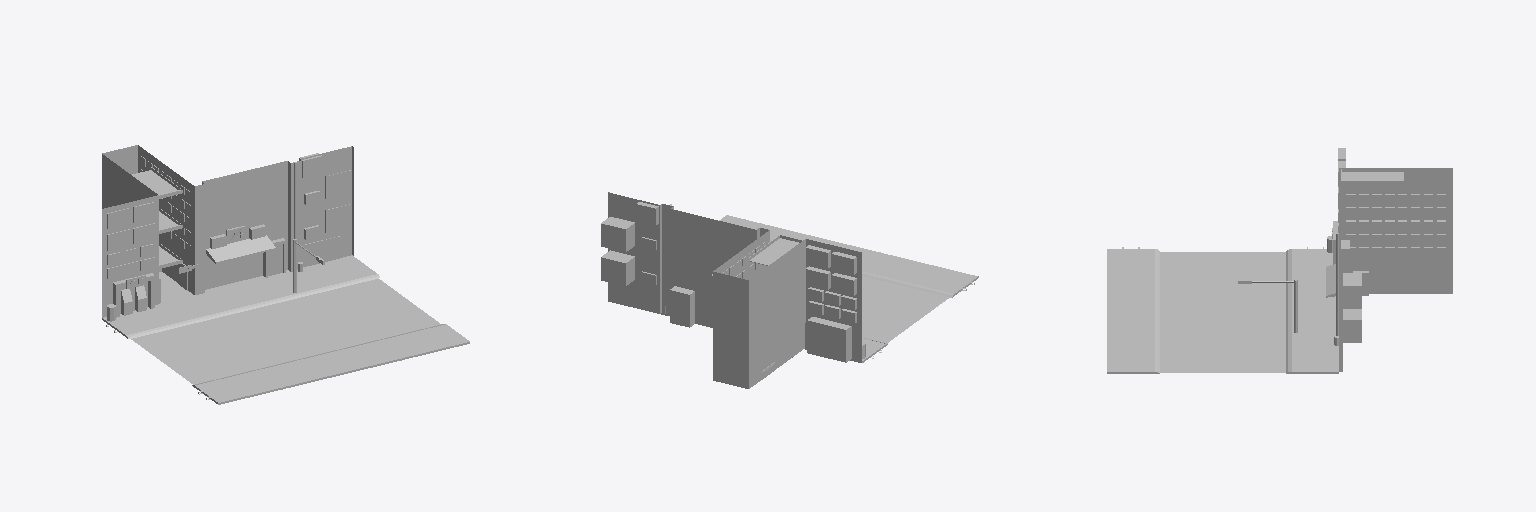
Rendered from blockmesh_cenario01.obj.
The picture shows the model from 3 angles: view 1: azimuth 30°, elevation 25°; view 2: azimuth 150°, elevation 25°; view 3: azimuth 270°, elevation 25°; orthographic projection.
Parts seen in each view (by area): view 1: Plane, Cube, Cube.030, Cube.002, Cube.029, Cube.028, Plane.001, Cube.011, Plane.007, Cube.001, Cube.023, Cube.025 (+6 smaller); view 2: Cube.029, Cube.030, Plane, Cube, Cube.002, Cube.028, Cube.023, Cube.011, Cube.007, Cube.010, Cube.016, Cube.019 (+1 smaller); view 3: Plane, Cube, Cube.029, Cube.026, Plane.001, Cube.001, Cube.023, Cube.025, Cube.002, Plane.007.
Boxes of the visible parts, x1,y1,x2,y2 form: Plane: [131, 279, 440, 384]; Cube: [102, 257, 469, 404]; Cube.030: [202, 161, 287, 289]; Cube.002: [102, 146, 353, 317]; Cube.029: [102, 145, 194, 294]; Cube.028: [301, 146, 351, 266]; Plane.001: [239, 305, 333, 356]; Cube.011: [107, 202, 155, 250]; Plane.007: [128, 167, 182, 268]; Cube.001: [126, 274, 444, 387]; Cube.023: [325, 170, 350, 232]; Cube.025: [106, 261, 460, 401]; Cube.029: [713, 230, 805, 388]; Cube.030: [670, 209, 756, 327]; Plane: [862, 276, 949, 342]; Cube: [612, 215, 978, 362]; Cube.002: [609, 192, 861, 360]; Cube.028: [608, 192, 659, 313]; Cube.023: [601, 217, 634, 285]; Cube.011: [806, 245, 856, 295]; Cube.007: [807, 317, 851, 362]; Cube.010: [808, 287, 856, 322]; Cube.016: [670, 286, 694, 327]; Cube.019: [619, 284, 656, 312]; Plane: [1160, 252, 1285, 372]; Cube: [1107, 249, 1338, 373]; Cube.029: [1339, 168, 1452, 293]; Cube.026: [1346, 194, 1445, 255]; Plane.001: [1165, 303, 1282, 320]; Cube.001: [1155, 249, 1291, 373]; Cube.023: [1343, 273, 1361, 342]; Cube.025: [1107, 247, 1338, 370]; Cube.002: [1339, 190, 1345, 371]; Plane.007: [1341, 169, 1403, 184].
Bounding box in the file's own units: 22.7 × 9.42 × 26.63.